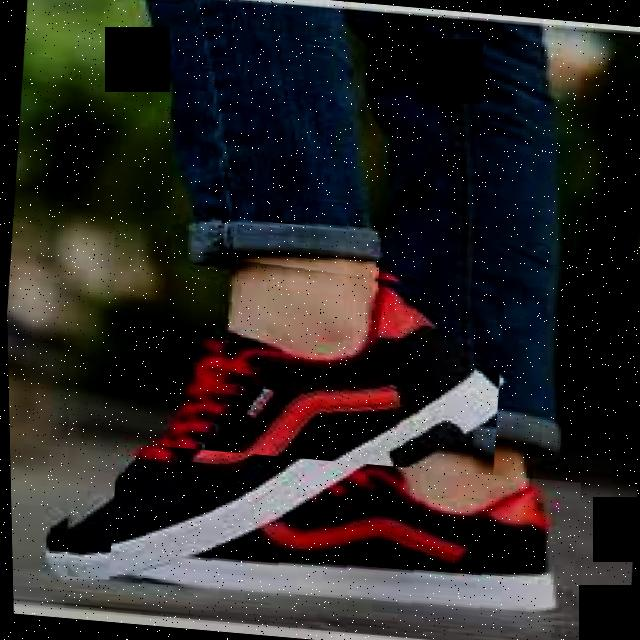shoe: (38, 238, 510, 612), (103, 442, 581, 629)
